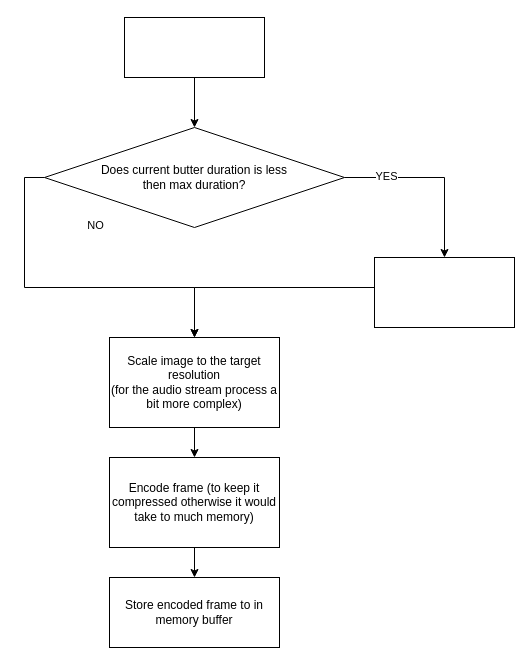
The diagram is 532 pixels wide and 665 high, and some of its shapes have lost their labels. The shapes that lost their labels are listed below. From the top down, each one's centre as x and y in pixels, then its label:
[194,47]: Frame (Image or Samples)
[444,292]: Remove frame to have empty space for a new frame
